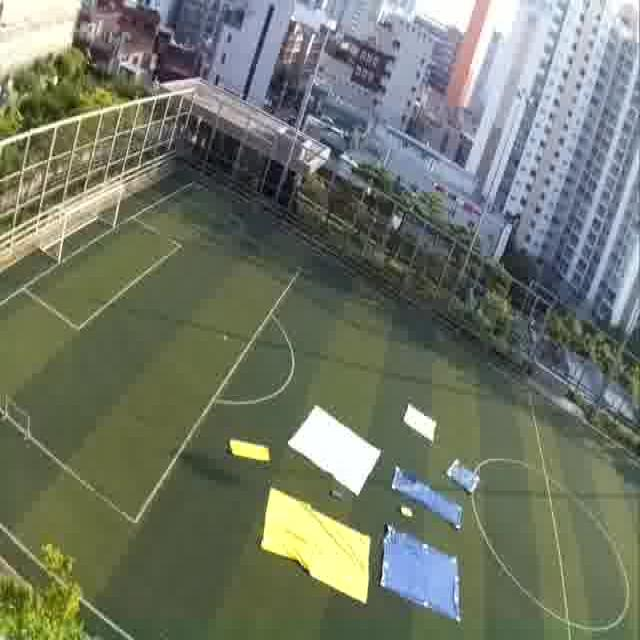danger: (378, 527, 458, 618), (391, 464, 435, 504), (443, 458, 485, 494)
safety: (288, 408, 379, 492), (399, 400, 443, 454)
warning: (257, 508, 371, 604), (228, 434, 272, 469)
